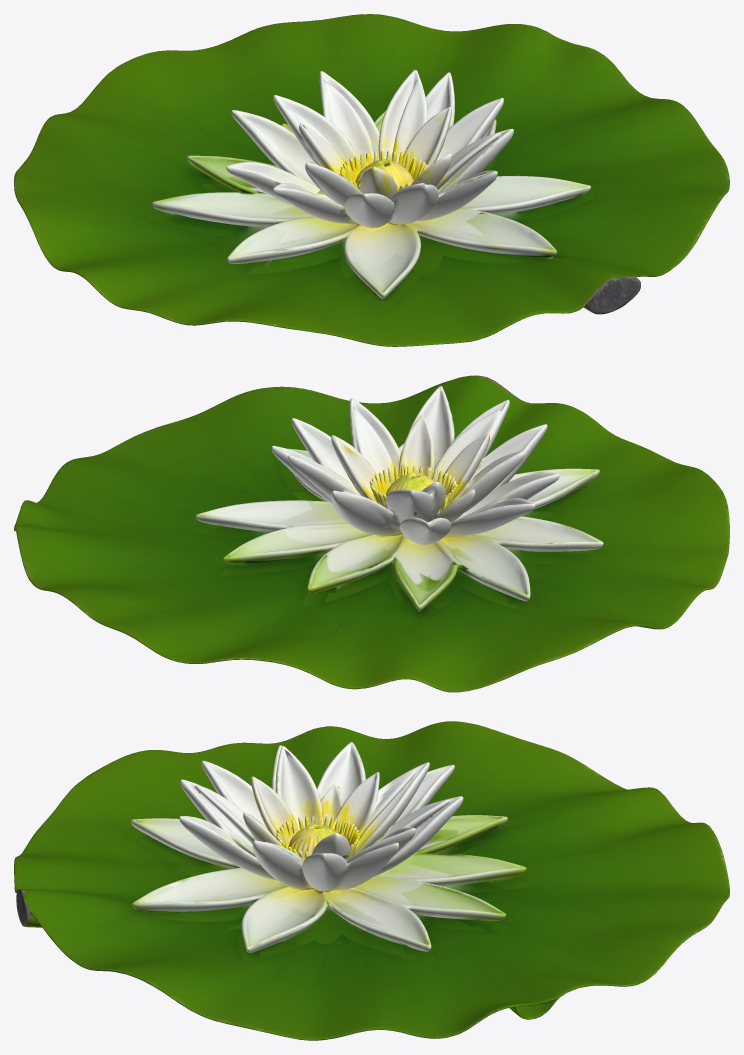
The model's file is shuilian.glb.
3 views of the same model, one above another, from view 1: azimuth 30°, elevation 25°; view 2: azimuth 150°, elevation 25°; view 3: azimuth 270°, elevation 25° (orthographic). The views are drawn at different scales.
Visible parts, largest first — view 1: node_0; view 2: node_0; view 3: node_0.
Boxes of the visible parts, x1=… form: node_0: x1=14, y1=14, x2=729, y2=346; node_0: x1=14, y1=375, x2=729, y2=692; node_0: x1=14, y1=721, x2=729, y2=1040.
Bounding box in the file's own units: 1.17 × 0.1778 × 1.17.
Materials: 1 (1 with a texture image).
